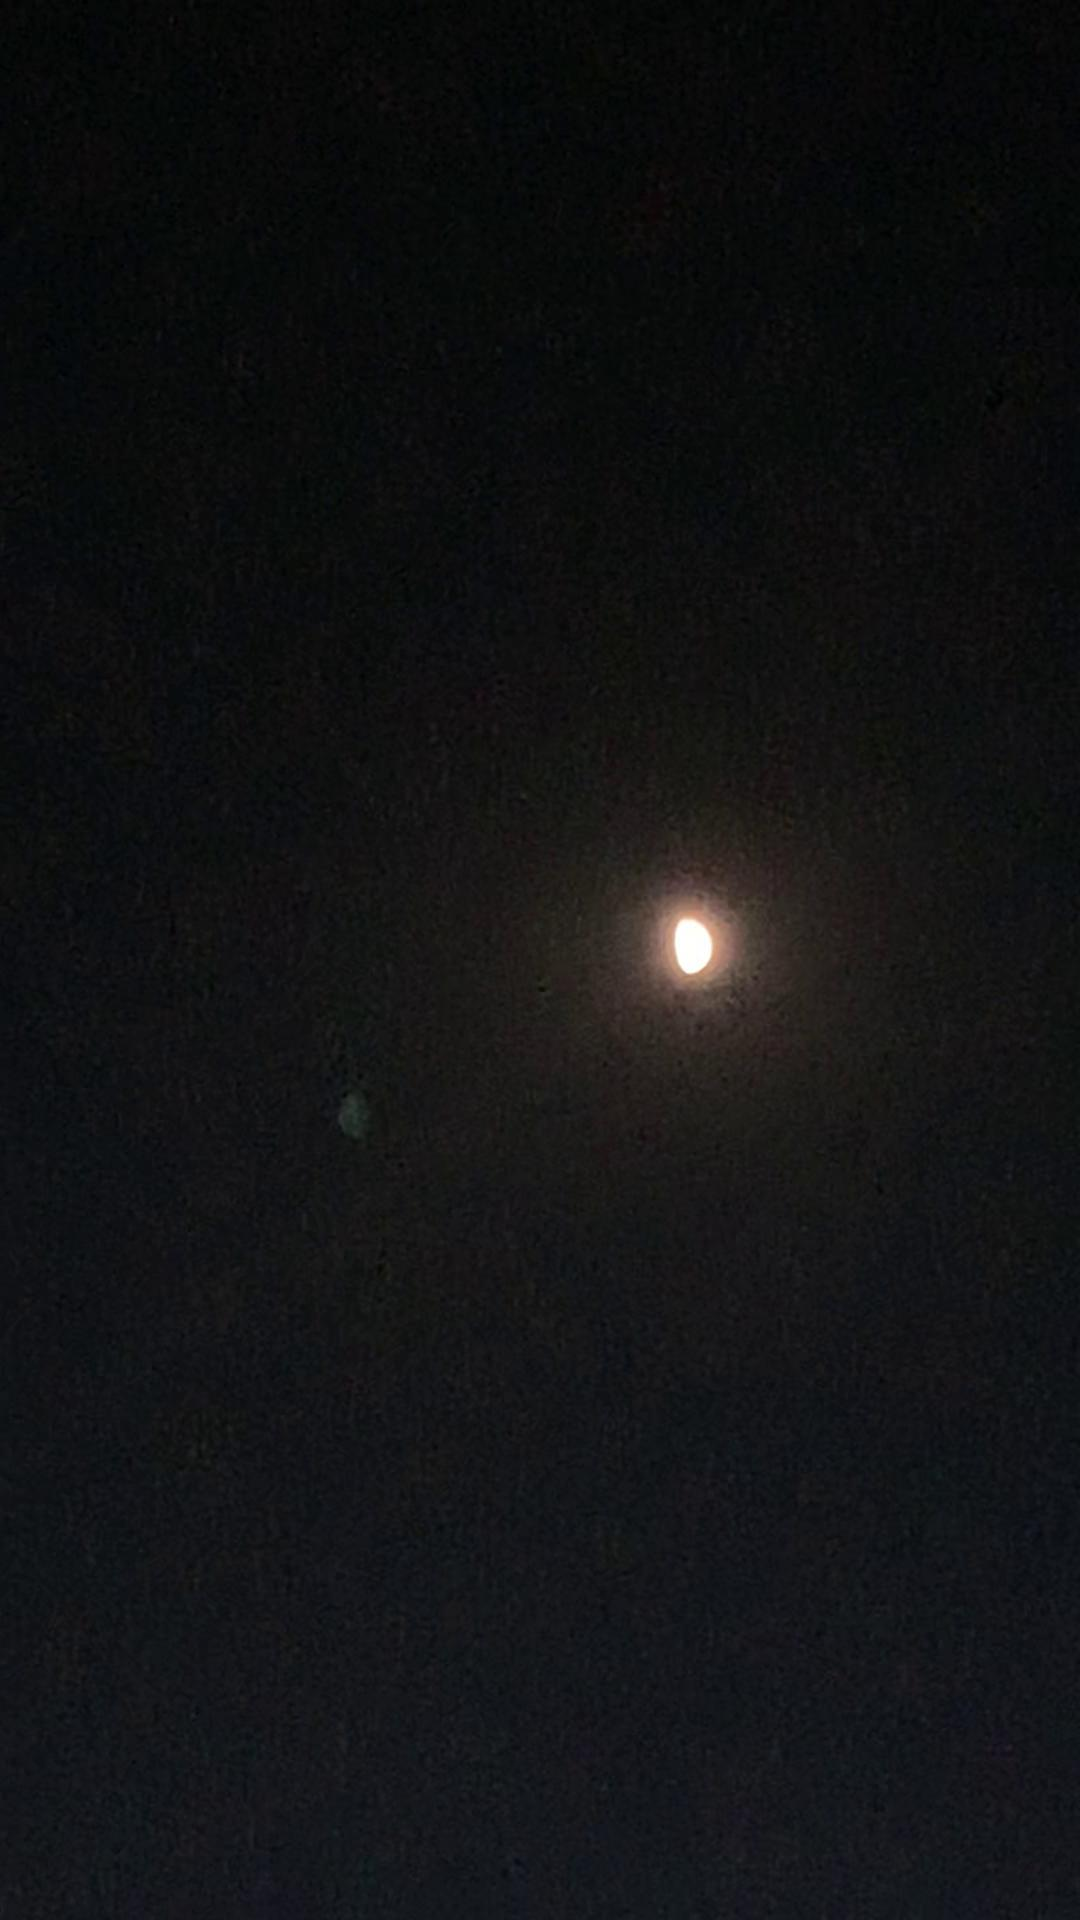moon: (644, 899, 736, 998)
